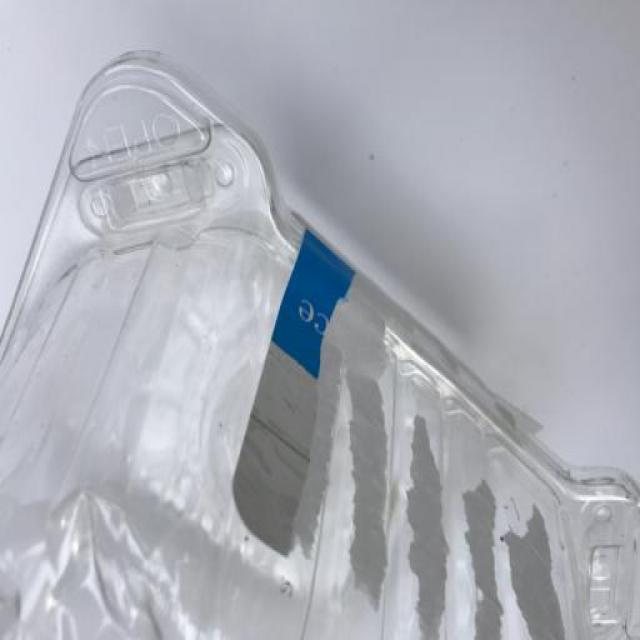Recycle: (2, 49, 640, 640)
